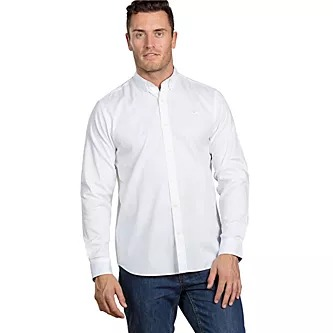C_shirt: (81, 68, 249, 278)
